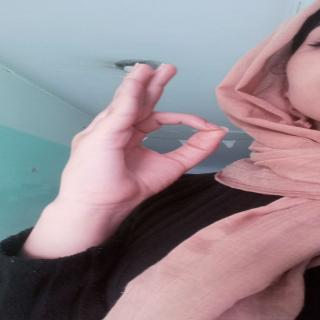Space: (45, 60, 232, 217)
